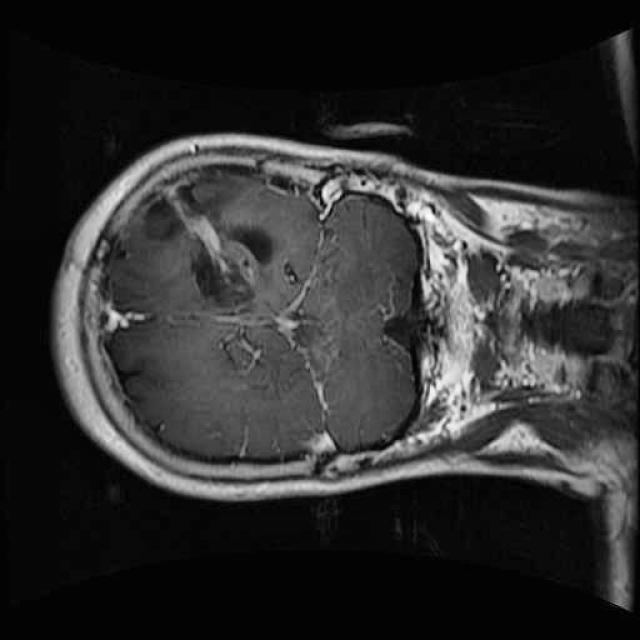Non-Tumor: (134, 155, 312, 332)
